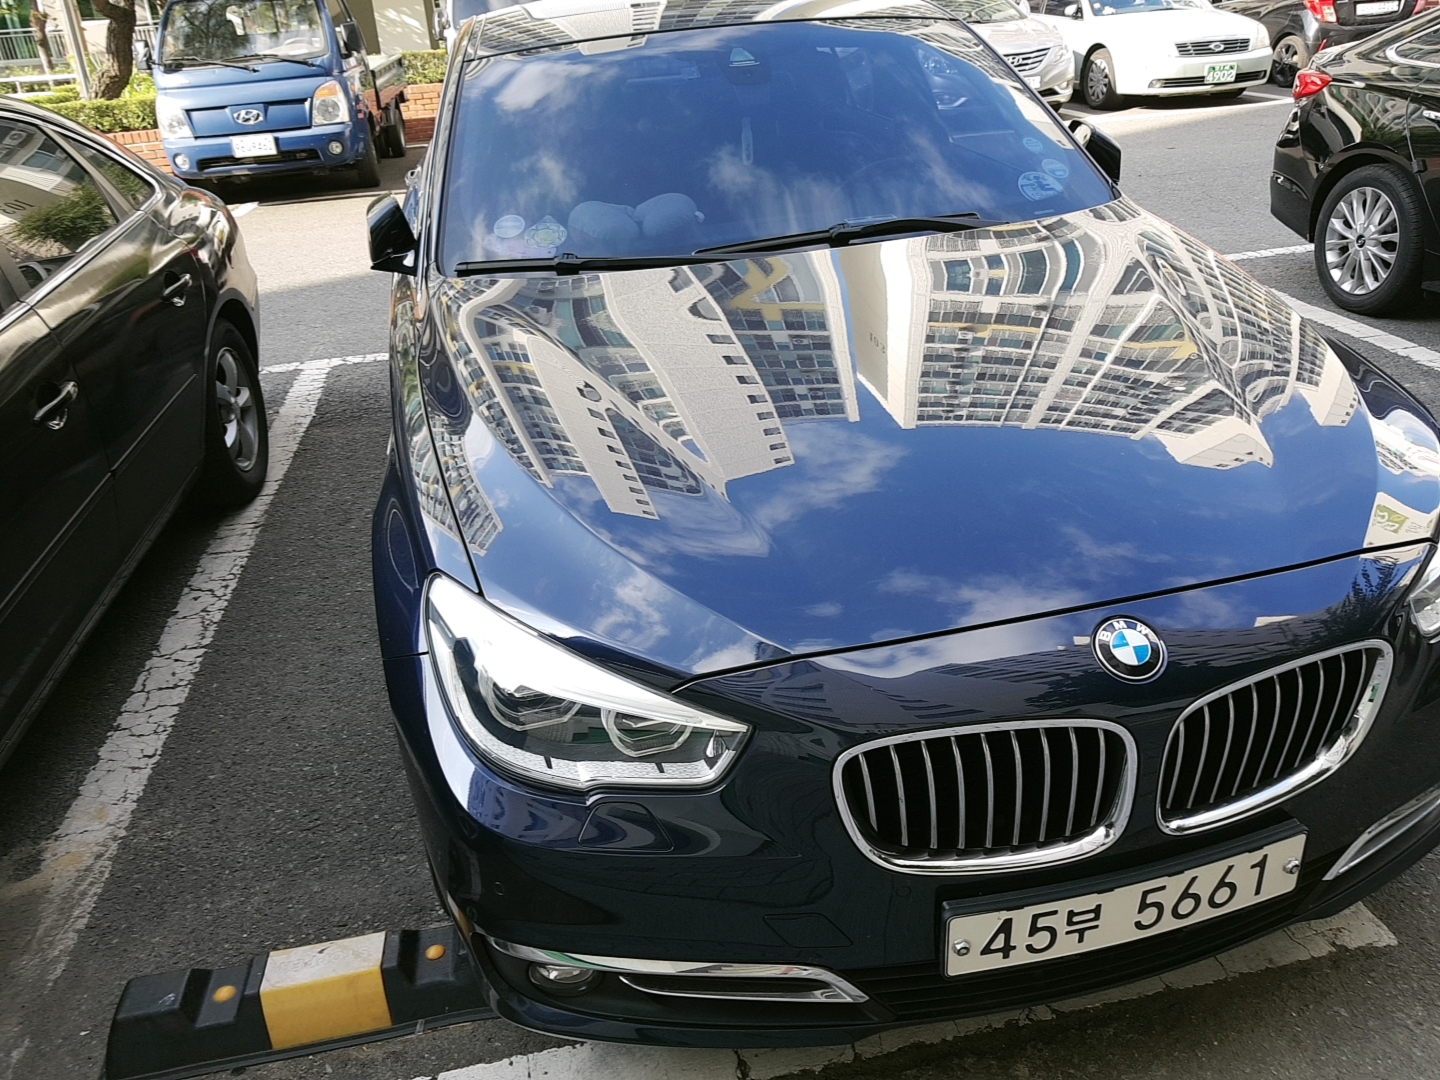apart_parking: (490, 210, 527, 241)
disabled_parking: (1014, 168, 1071, 205)
etc: (530, 213, 571, 248), (1042, 157, 1074, 178), (1023, 135, 1049, 155)
